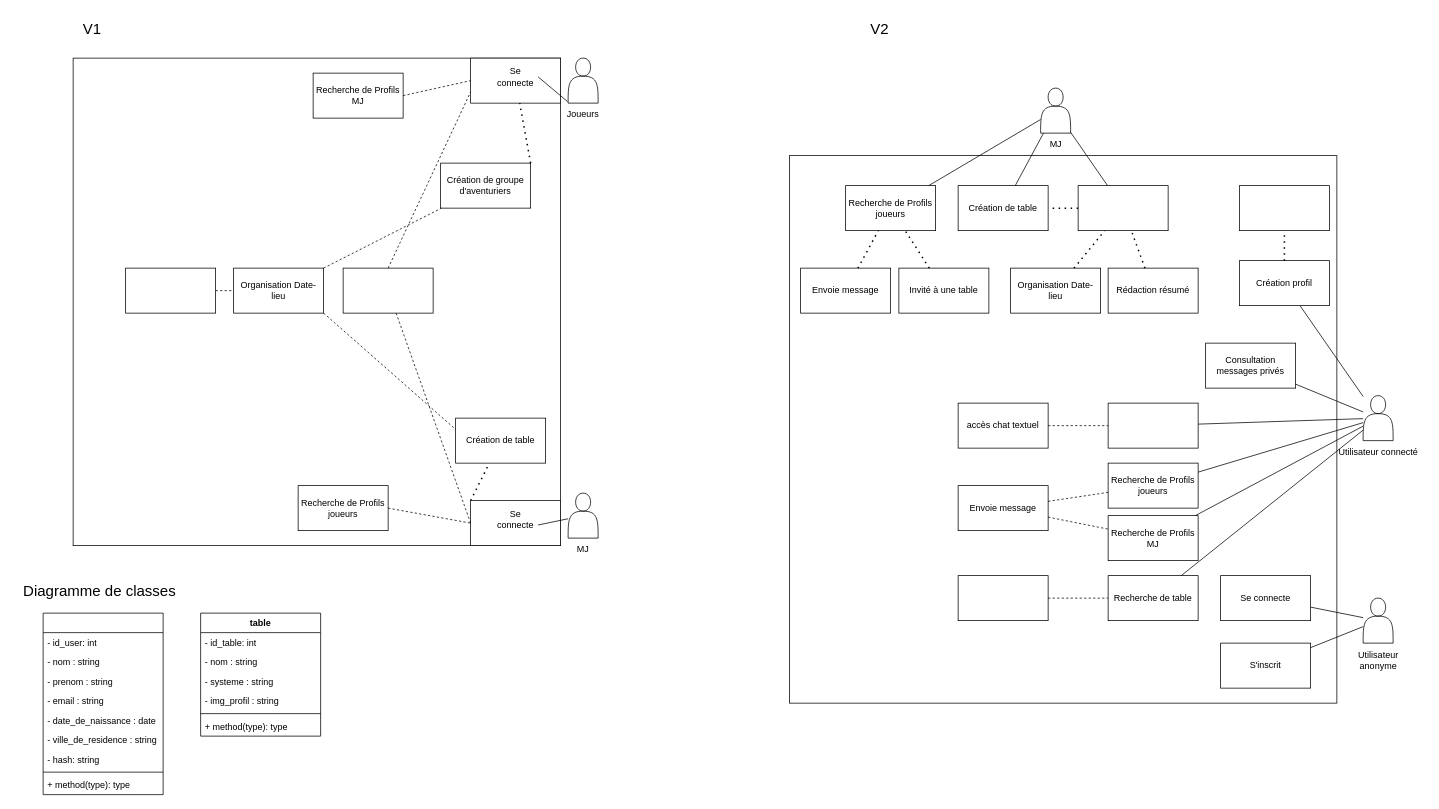
Image size: 1439x809. Some labels were removed from this diagram. Here are the shapes that lost their labels. From the top down, the box of each, then its label:
(1077, 185, 1168, 231): Connexion à la table
(1239, 185, 1329, 231): activation MJ / Pas MJ
(125, 267, 216, 313): Recherche lieu public permettant le jeu
(342, 267, 433, 313): Messagerie/chat
(1107, 402, 1198, 448): Connexion sur table
(957, 575, 1048, 621): Demande à rejoindre
(42, 612, 163, 795): Utilisateur
